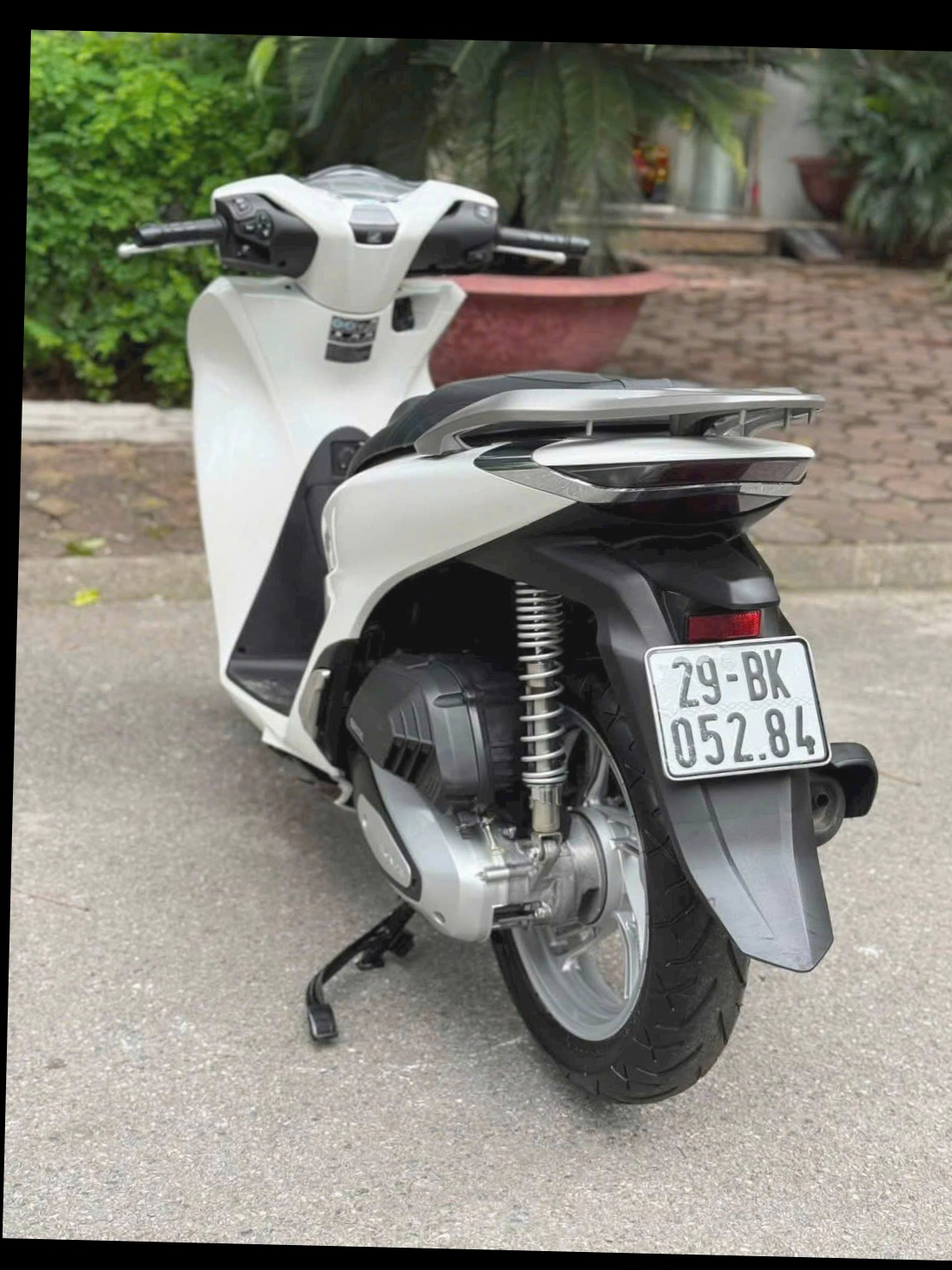Bien-so: (644, 626, 840, 792)
